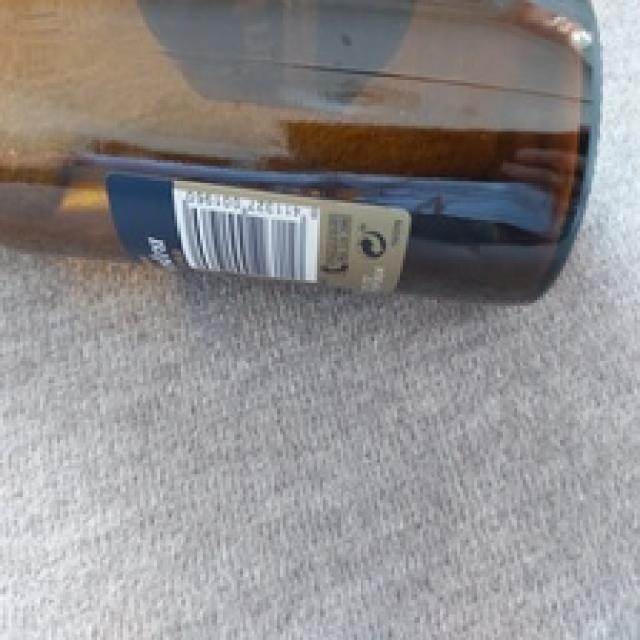Glass: (0, 0, 605, 305)
